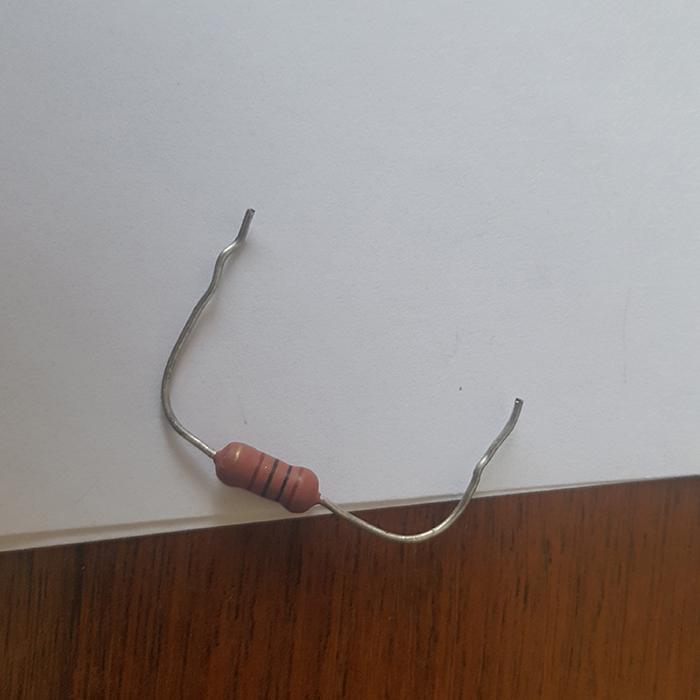resistor: (212, 439, 320, 512)
